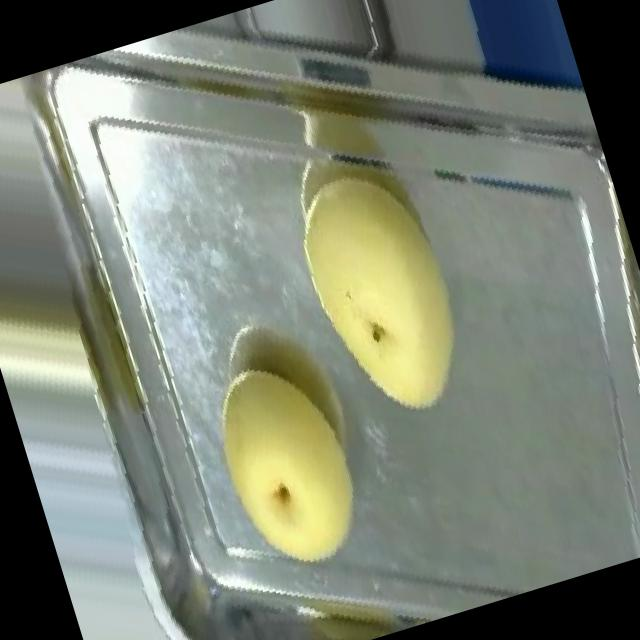Fruit: (264, 132, 516, 452), (174, 329, 408, 606)
